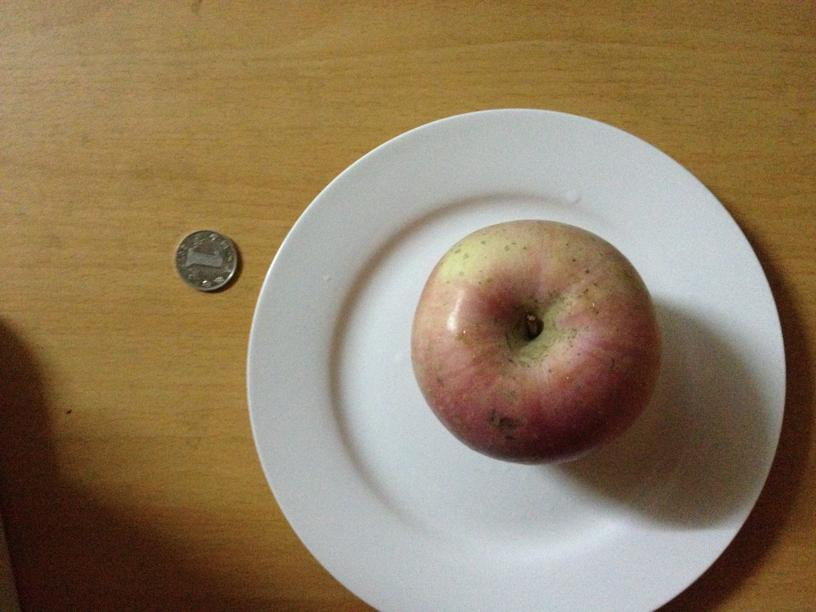apple: (413, 219, 663, 466)
coin: (173, 229, 236, 290)
